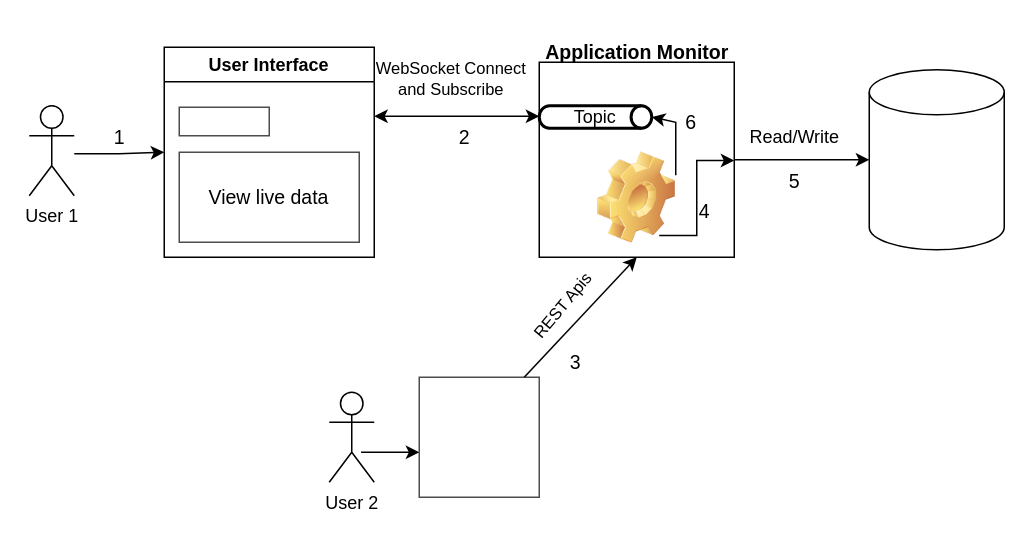
The diagram is 1031 pixels wide and 540 high, and some of its shapes have lost their labels. Here are the shapes that lost their labels. From the top down, the centre of each, then its label:
At point (223, 121): "Connect".
At point (936, 159): "Monitoring db".
At point (478, 436): "Rest Client".
